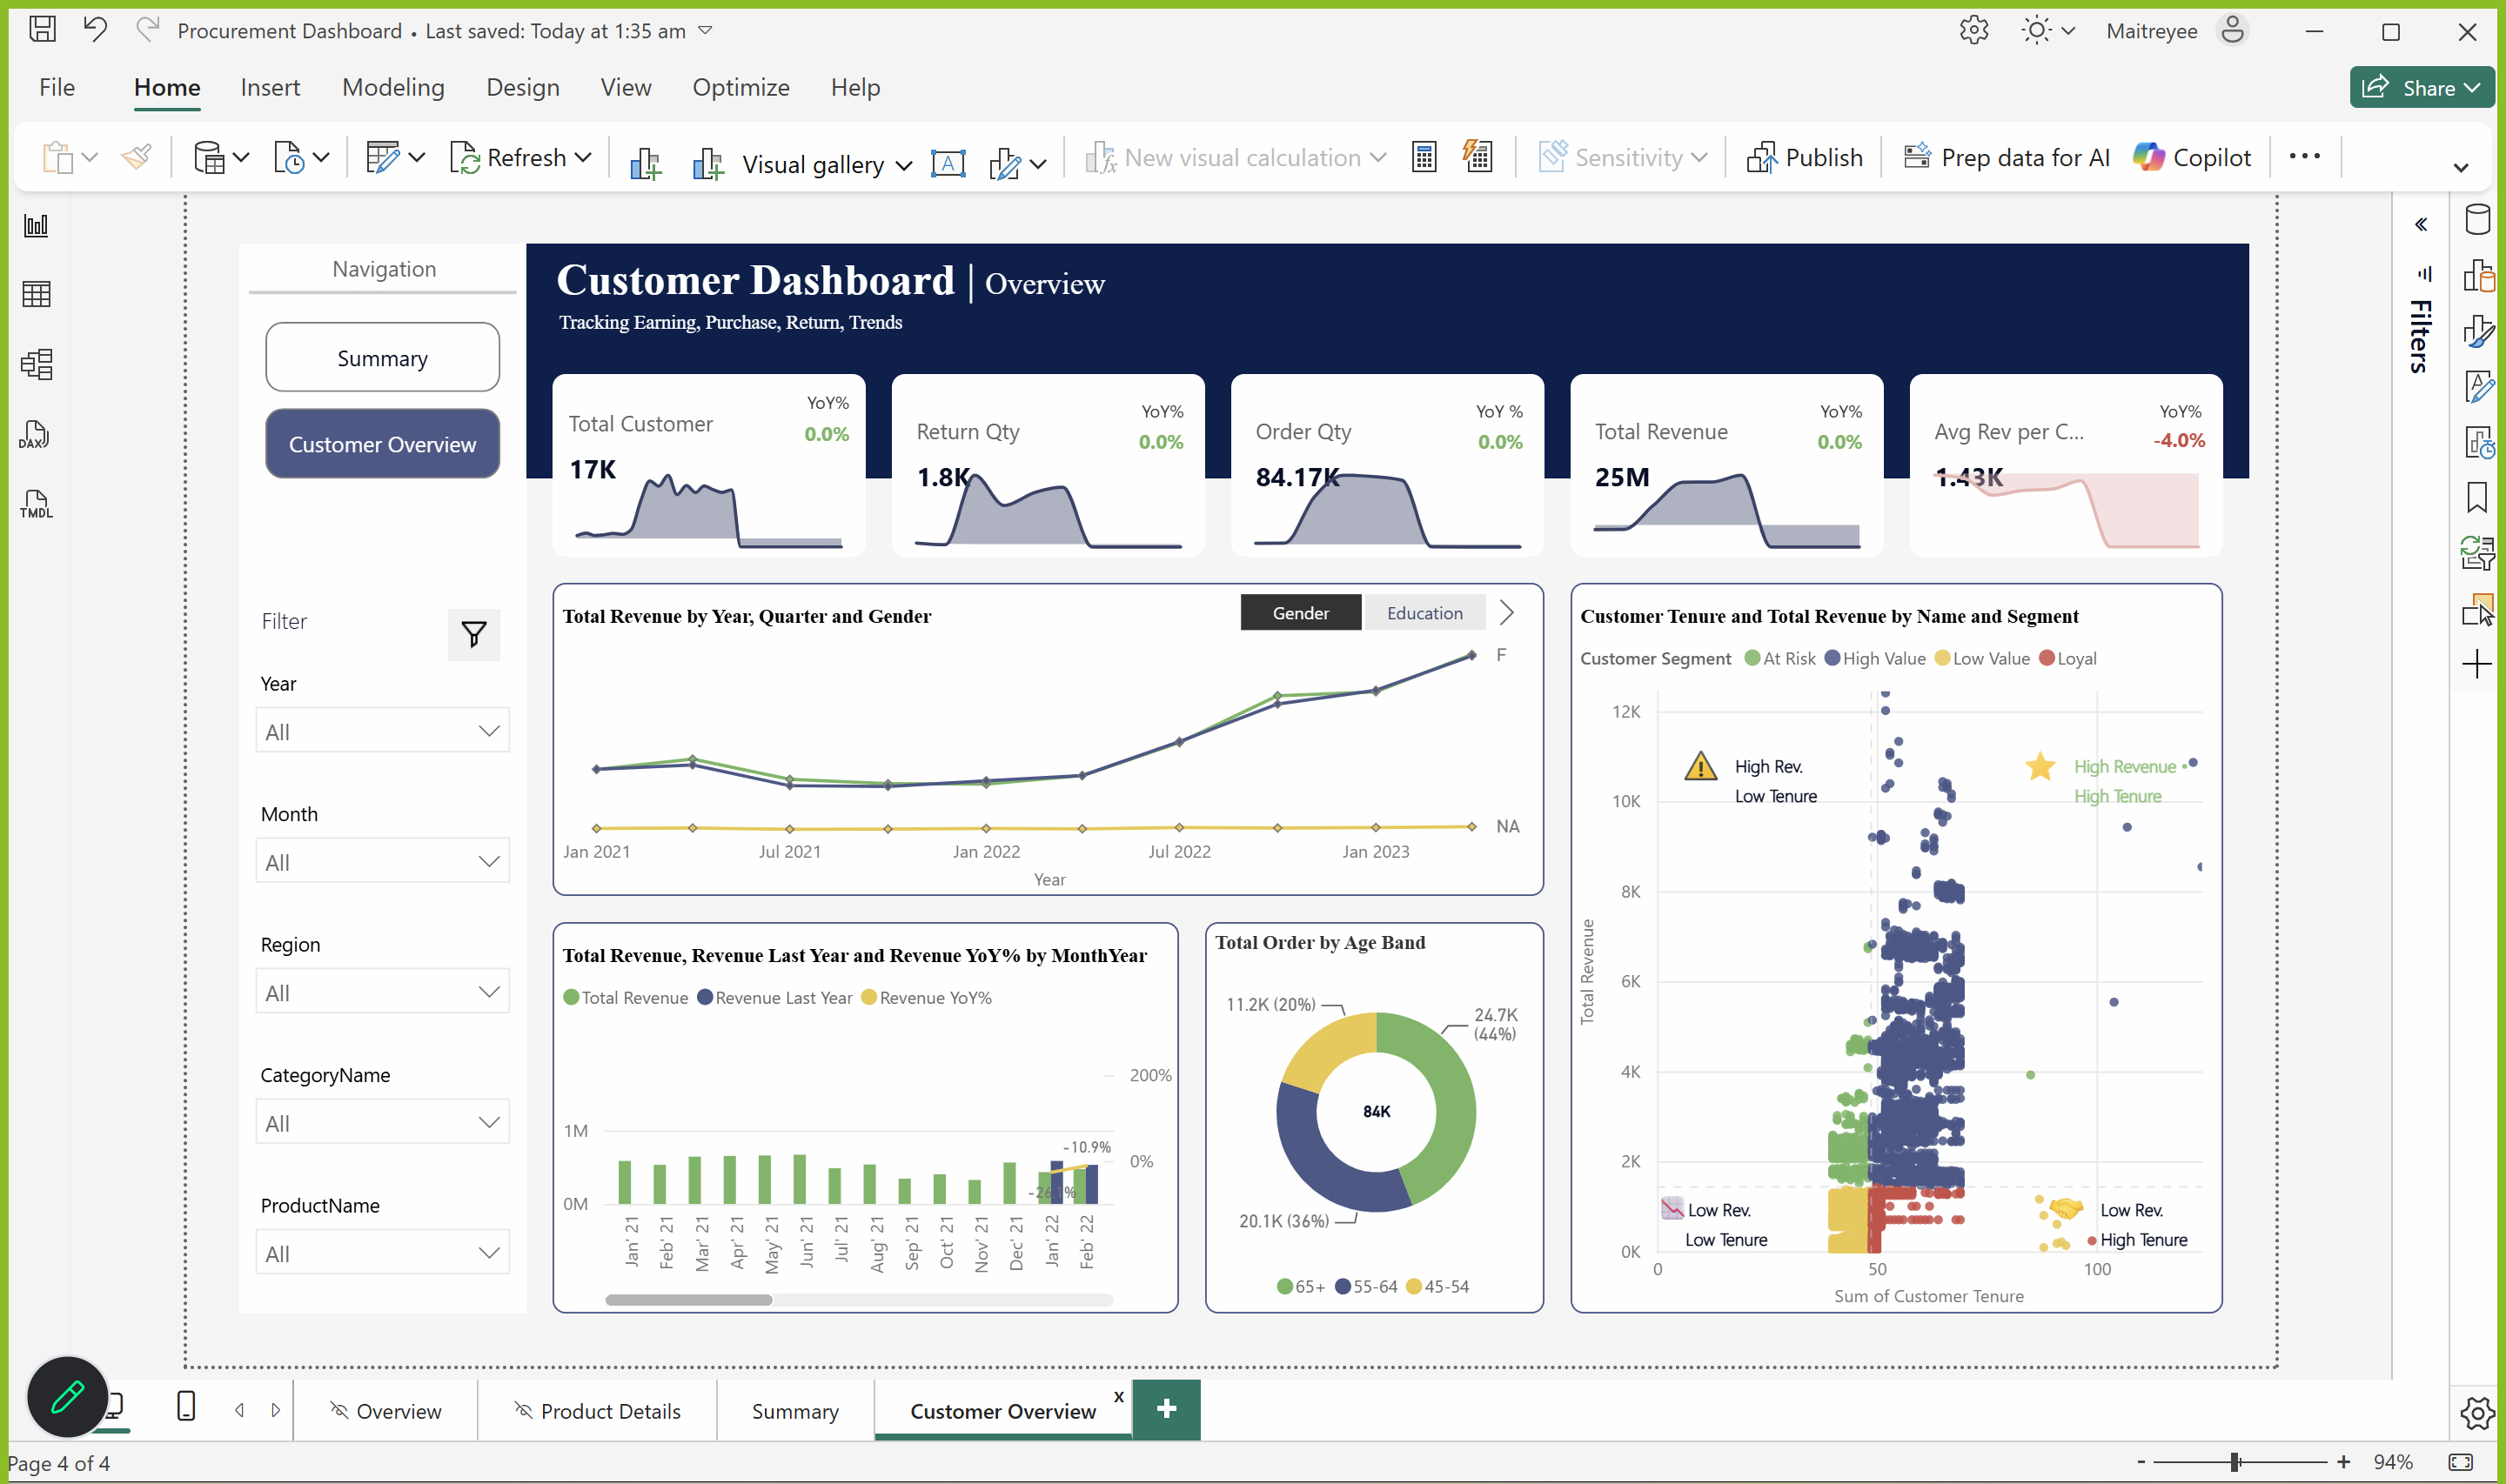

Layout of this report page (visuals, bound fields, positions):
{"tool":"powerbi","page":{"name":"Customer Overview","canvas":[1280,720],"ordinal":4},"visuals":[{"type":"textbox","box":[208,32,1056,144],"z":0},{"type":"cardVisual","fields":{"Data":["00_DAX.Total customer"]},"box":[224,112,192,112],"z":1000},{"type":"cardVisual","fields":{"Data":["00_DAX.Return Qty"]},"box":[432,112,192,112],"z":2000},{"type":"textbox","title":"Navigation","box":[32,32,176,656],"z":3000},{"type":"donutChart","title":"Total Order by Age Band","fields":{"Category":["M_Customers.Age Band"],"Y":["00_DAX.Total Orders"]},"box":[624,448,208,240],"z":4000},{"type":"slicer","fields":{"Values":["M_Date.Date.Variation.Date Hierarchy.Year"]},"box":[32,288,176,80],"z":5000},{"type":"slicer","fields":{"Values":["M_Date.Date.Variation.Date Hierarchy.Month"]},"box":[32,368,176,80],"z":6000},{"type":"slicer","fields":{"Values":["M_Category.CategoryName"]},"box":[32,528,176,80],"z":7000},{"type":"slicer","fields":{"Values":["M_Territories.Region"]},"box":[32,448,176,80],"z":8000},{"type":"slicer","fields":{"Values":["M_Products.ProductName"]},"box":[32,608,176,80],"z":9000},{"type":"areaChart","fields":{"Category":["M_Date.Date.Variation.Date Hierarchy.Year","M_Date.Date.Variation.Date Hierarchy.Quarter","M_Date.Date.Variation.Date Hierarchy.Month"],"Y":["00_DAX.Return YoY%"]},"box":[432,160,192,64],"z":10000},{"type":"image","box":[160,256,32,32],"z":11000},{"type":"pageNavigator","box":[48,80,144,96],"z":12000},{"type":"lineChart","fields":{"Category":["M_Date.Date.Variation.Date Hierarchy.Year","M_Date.Date.Variation.Date Hierarchy.Quarter","M_Date.Date.Variation.Date Hierarchy.Month"],"Y":["00_DAX.Customer YoY%"]},"box":[224,160,192,64],"z":13000},{"type":"cardVisual","fields":{"Data":["00_DAX.Total Order Qty"]},"box":[640,112,192,112],"z":14000},{"type":"areaChart","fields":{"Category":["M_Date.Date.Variation.Date Hierarchy.Year","M_Date.Date.Variation.Date Hierarchy.Quarter","M_Date.Date.Variation.Date Hierarchy.Month"],"Y":["00_DAX.Order YoY %"]},"box":[640,160,192,64],"z":15000},{"type":"cardVisual","fields":{"Data":["00_DAX.Avg Rev per Customer"]},"box":[1056,112,192,112],"z":16000},{"type":"cardVisual","fields":{"Data":["00_DAX.Total Revenue"]},"box":[848,112,192,112],"z":17000},{"type":"areaChart","fields":{"Category":["M_Date.Date.Variation.Date Hierarchy.Year","M_Date.Date.Variation.Date Hierarchy.Quarter","M_Date.Date.Variation.Date Hierarchy.Month"],"Y":["00_DAX.Revenue YoY%"]},"box":[848,160,192,64],"z":18000},{"type":"areaChart","fields":{"Category":["M_Date.Date.Variation.Date Hierarchy.Year","M_Date.Date.Variation.Date Hierarchy.Quarter","M_Date.Date.Variation.Date Hierarchy.Month"],"Y":["00_DAX.Avg Rev YoY%"]},"box":[1056,160,192,64],"z":19000},{"type":"cardVisual","fields":{"Data":["00_DAX.Total Order Qty"]},"box":[704,544,52,32],"z":20000},{"type":"lineChart","fields":{"Category":["M_Date.Date.Variation.Date Hierarchy.Year","M_Date.Date.Variation.Date Hierarchy.Quarter","M_Date.Date.Variation.Date Hierarchy.Month","M_Date.Date.Variation.Date Hierarchy.Day"],"Series":["M_Customers.Gender"],"Y":["00_DAX.Total Revenue"]},"box":[224,240,608,192],"z":21000},{"type":"slicer","fields":{"Values":["Parameter.Parameter"]},"box":[624,240,192,32],"z":22000},{"type":"scatterChart","title":"Customer Tenure and Total Revenue by Name and Segment","fields":{"Category":["M_Customers.Customer Name"],"Series":["M_Customers.Customer Segment"],"X":["Sum(M_Customers.Customer Tenure)"],"Y":["00_DAX.Total Revenue"]},"box":[848,240,400,448],"z":23000},{"type":"textbox","box":[1168,608,80,48],"z":24000},{"type":"image","box":[1136,608,32,32],"z":25000},{"type":"image","box":[1120,336,32,32],"z":26000},{"type":"image","box":[912,336,32,32],"z":27000},{"type":"lineClusteredColumnComboChart","fields":{"Category":["M_Date.MonthYear"],"Y":["00_DAX.Total Revenue","00_DAX.Revenue Last Year"],"Y2":["00_DAX.Revenue YoY%"]},"box":[224,448,384,240],"z":28000},{"type":"textbox","box":[896,608,96,48],"z":29000},{"type":"textbox","box":[1152,336,96,48],"z":30000},{"type":"textbox","box":[944,336,64,48],"z":31000},{"type":"textbox","box":[1200,136,46,32],"z":32000}]}

Visuals, with their boxes on the page's 1280x720 design canvas (x1, y1, x2, y2). These are canvas units, not pixel positions in the 2506x1484 screenshot, which may show the page scaled, cropped or inside an application window:
textbox: bbox(208, 32, 1264, 176)
cardVisual - 00_DAX.Total customer: bbox(224, 112, 416, 224)
cardVisual - 00_DAX.Return Qty: bbox(432, 112, 624, 224)
"Navigation" textbox: bbox(32, 32, 208, 688)
"Total Order by Age Band" donutChart: bbox(624, 448, 832, 688)
slicer - M_Date.Date.Variation.Date Hierarchy.Year: bbox(32, 288, 208, 368)
slicer - M_Date.Date.Variation.Date Hierarchy.Month: bbox(32, 368, 208, 448)
slicer - M_Category.CategoryName: bbox(32, 528, 208, 608)
slicer - M_Territories.Region: bbox(32, 448, 208, 528)
slicer - M_Products.ProductName: bbox(32, 608, 208, 688)
areaChart - M_Date.Date.Variation.Date Hierarchy.Year x M_Date.Date.Variation.Date Hierarchy.Quarter: bbox(432, 160, 624, 224)
image: bbox(160, 256, 192, 288)
pageNavigator: bbox(48, 80, 192, 176)
lineChart - M_Date.Date.Variation.Date Hierarchy.Year x M_Date.Date.Variation.Date Hierarchy.Quarter: bbox(224, 160, 416, 224)
cardVisual - 00_DAX.Total Order Qty: bbox(640, 112, 832, 224)
areaChart - M_Date.Date.Variation.Date Hierarchy.Year x M_Date.Date.Variation.Date Hierarchy.Quarter: bbox(640, 160, 832, 224)
cardVisual - 00_DAX.Avg Rev per Customer: bbox(1056, 112, 1248, 224)
cardVisual - 00_DAX.Total Revenue: bbox(848, 112, 1040, 224)
areaChart - M_Date.Date.Variation.Date Hierarchy.Year x M_Date.Date.Variation.Date Hierarchy.Quarter: bbox(848, 160, 1040, 224)
areaChart - M_Date.Date.Variation.Date Hierarchy.Year x M_Date.Date.Variation.Date Hierarchy.Quarter: bbox(1056, 160, 1248, 224)
cardVisual - 00_DAX.Total Order Qty: bbox(704, 544, 756, 576)
lineChart - M_Date.Date.Variation.Date Hierarchy.Year x M_Date.Date.Variation.Date Hierarchy.Quarter: bbox(224, 240, 832, 432)
slicer - Parameter.Parameter: bbox(624, 240, 816, 272)
"Customer Tenure and Total Revenue by Name and Segment" scatterChart: bbox(848, 240, 1248, 688)
textbox: bbox(1168, 608, 1248, 656)
image: bbox(1136, 608, 1168, 640)
image: bbox(1120, 336, 1152, 368)
image: bbox(912, 336, 944, 368)
lineClusteredColumnComboChart - M_Date.MonthYear x 00_DAX.Total Revenue: bbox(224, 448, 608, 688)
textbox: bbox(896, 608, 992, 656)
textbox: bbox(1152, 336, 1248, 384)
textbox: bbox(944, 336, 1008, 384)
textbox: bbox(1200, 136, 1246, 168)
